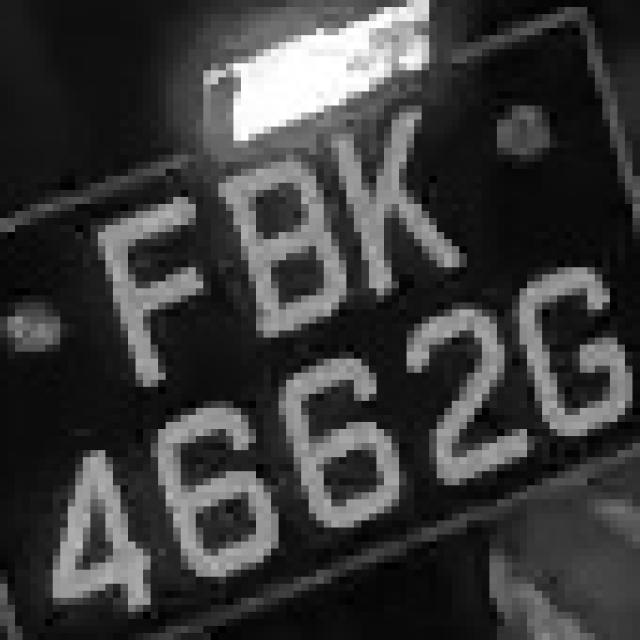2: (376, 274, 534, 506)
4: (0, 5, 2, 7)
6: (121, 387, 286, 612), (256, 358, 414, 542)
B: (203, 134, 354, 352)
F: (68, 169, 218, 380)
G: (6, 3, 8, 5)
K: (324, 84, 452, 310)
